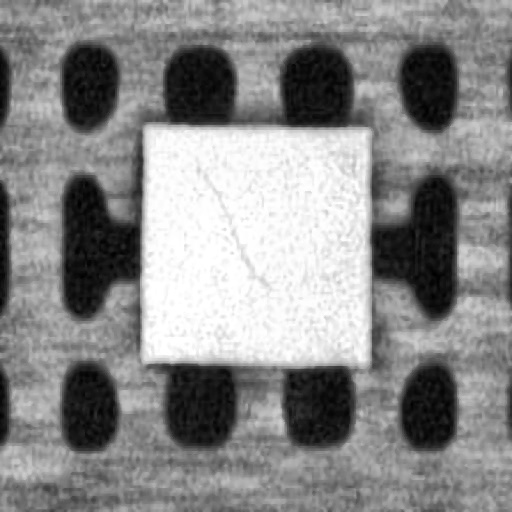DIE_CRACK: (195, 159, 269, 289)
